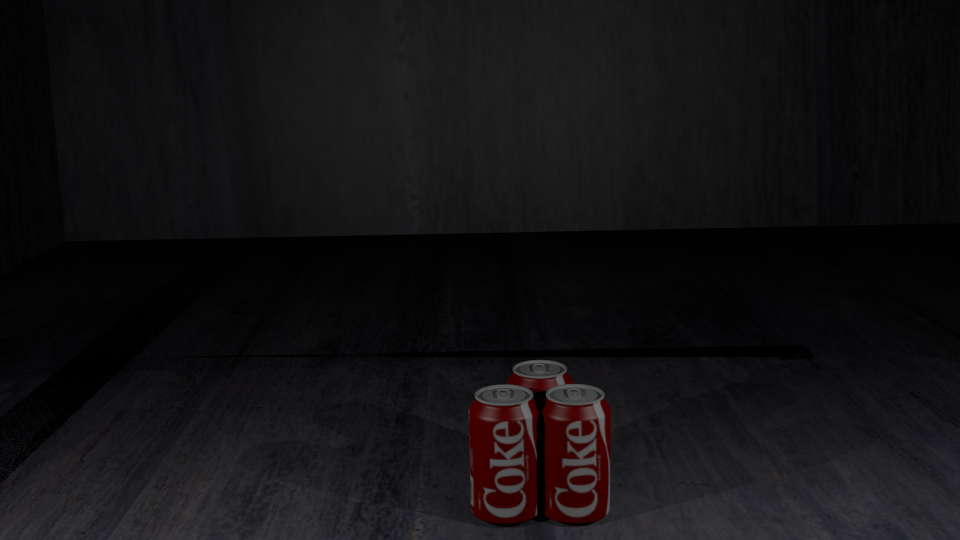cola_can: (469, 385, 539, 520), (540, 384, 610, 518), (507, 360, 572, 487)
